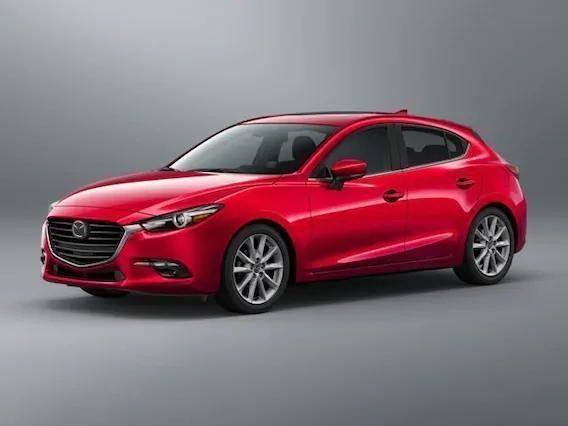Mazda3 Hatchback: (40, 109, 528, 314)
